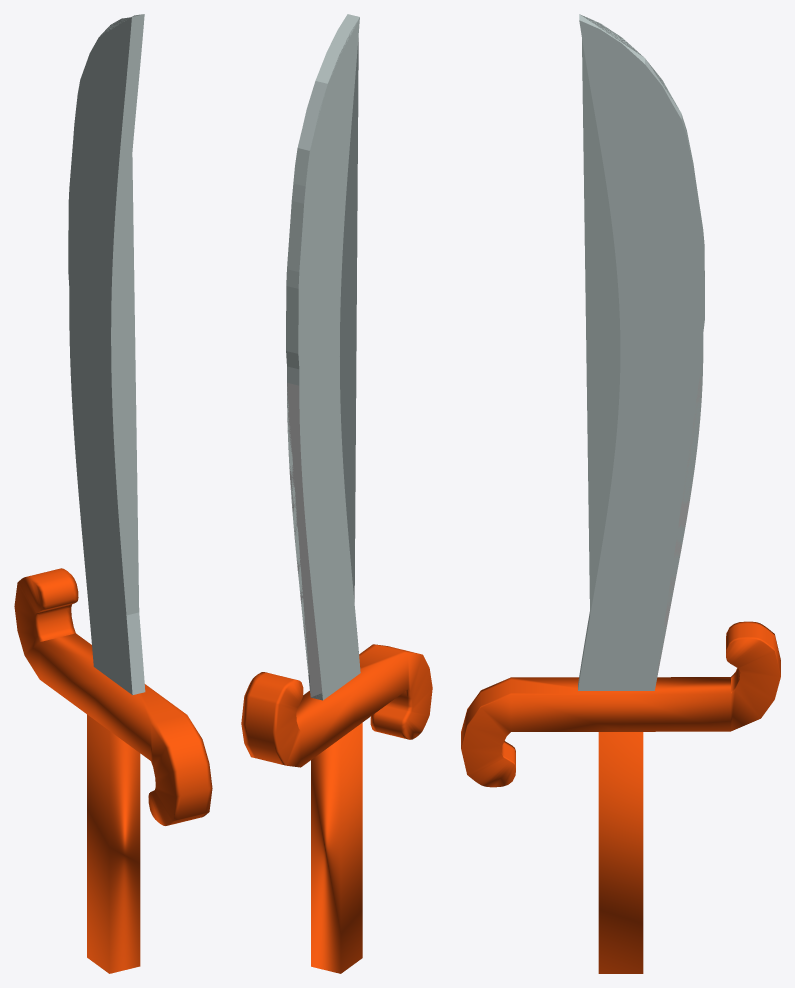
Rendered from sable.fbx.
The picture shows the model from 3 angles, left to right: view 1: azimuth 30°, elevation 25°; view 2: azimuth 150°, elevation 25°; view 3: azimuth 270°, elevation 25°; orthographic projection. The views are drawn at different scales.
Parts seen in each view (by area): view 1: Cube; view 2: Cube; view 3: Cube.
Part boxes in pixels (x1,y1,x2,y2): Cube: [14, 14, 212, 973]; Cube: [241, 14, 432, 973]; Cube: [461, 14, 780, 973].
Size of the model in its own units: 16.28 by 407 by 124.
1 material, 1 textured.
